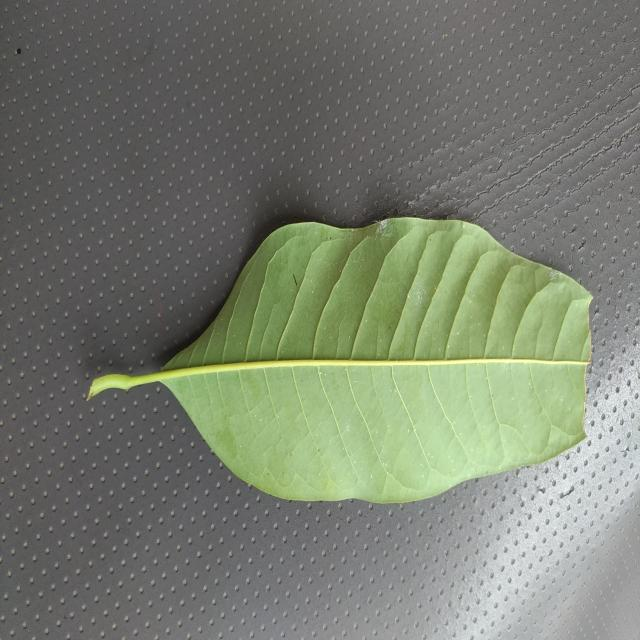coffee: (90, 218, 591, 502)
